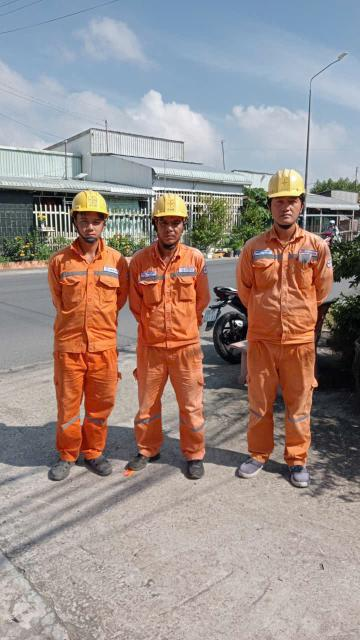helmet: (57, 188, 112, 222), (266, 166, 304, 201), (150, 191, 190, 223)
shoes: (126, 444, 166, 475), (282, 456, 313, 495), (235, 449, 267, 483), (181, 451, 210, 488), (47, 454, 77, 483), (82, 454, 116, 477)
